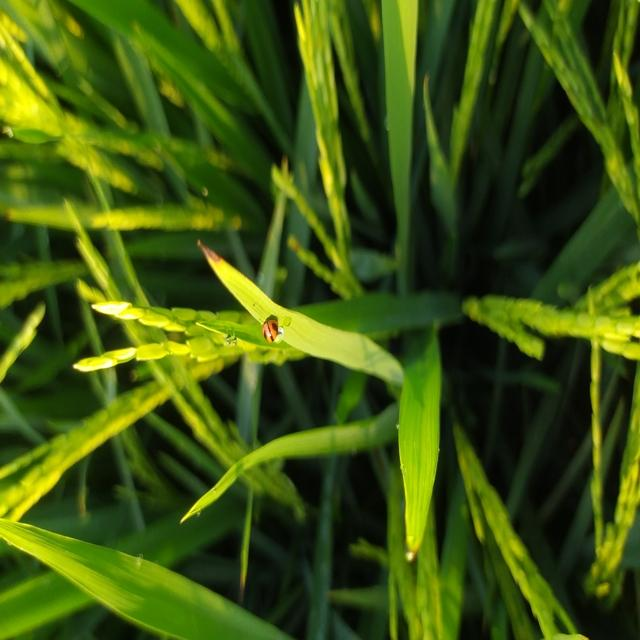Brown spot: (186, 227, 253, 279)
